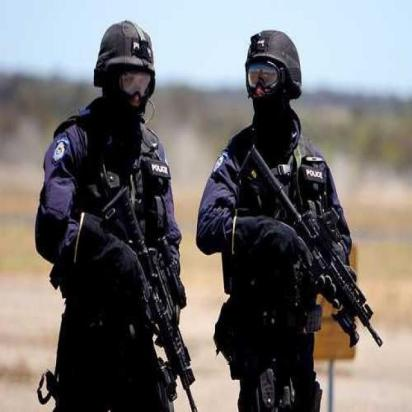Gun: (239, 137, 392, 364), (90, 173, 200, 412)
